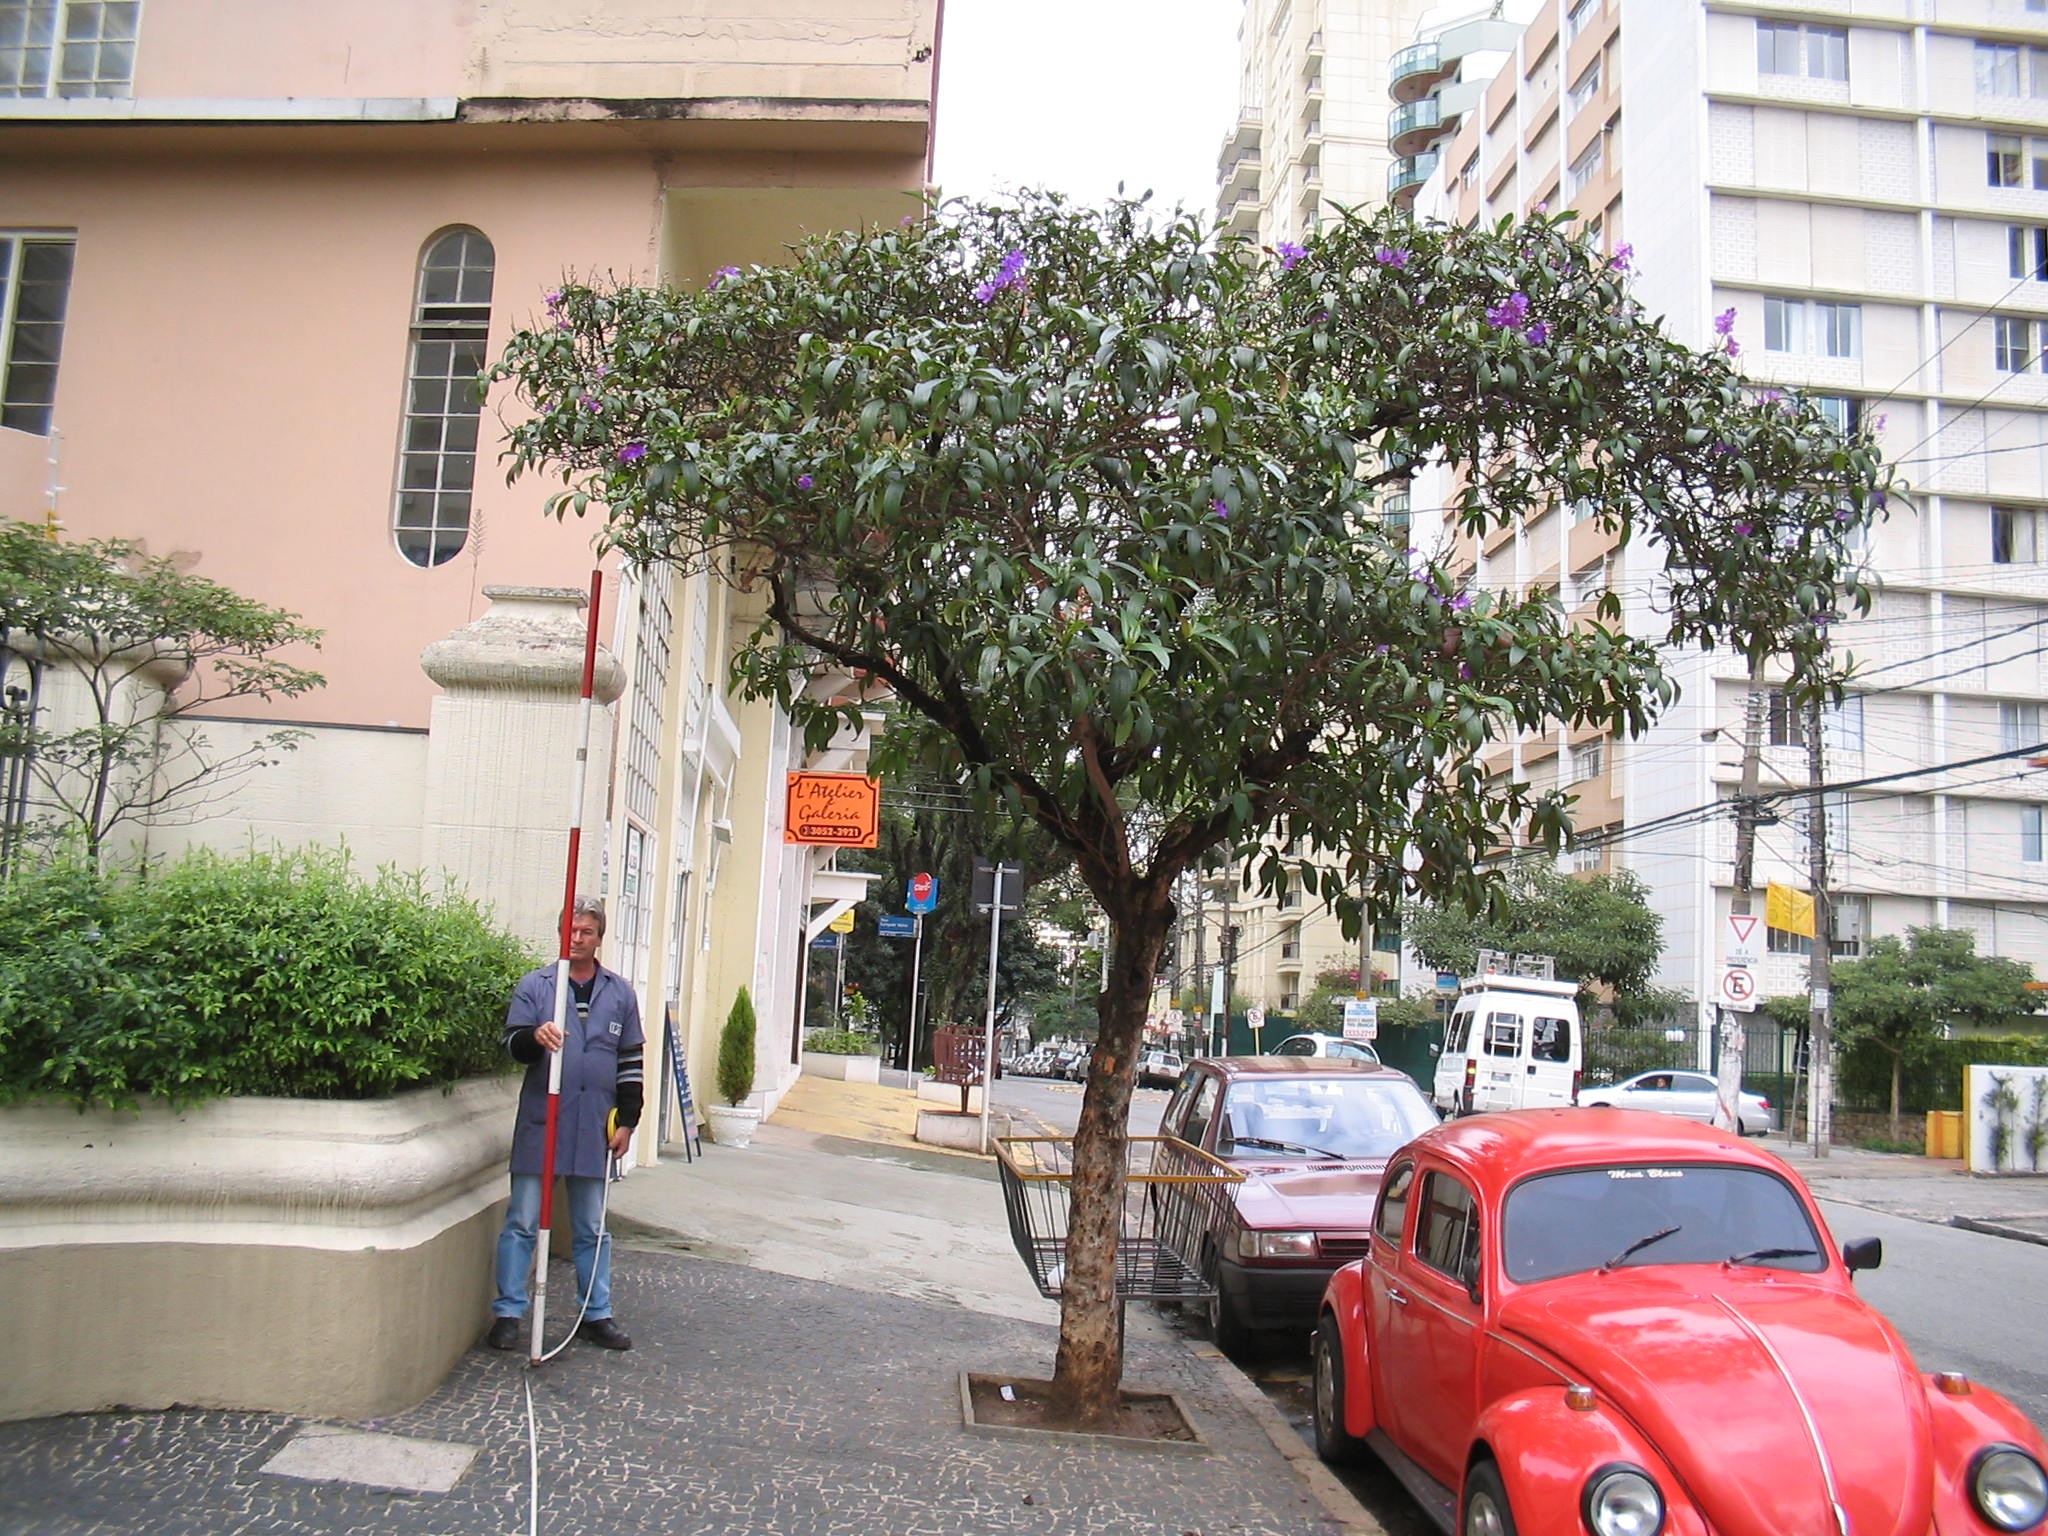crown: (485, 173, 1921, 954)
stem: (1005, 891, 1213, 1430)
stick: (511, 566, 629, 1365)
tree: (479, 173, 1927, 1431)
